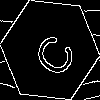C: (25, 25, 79, 81)
